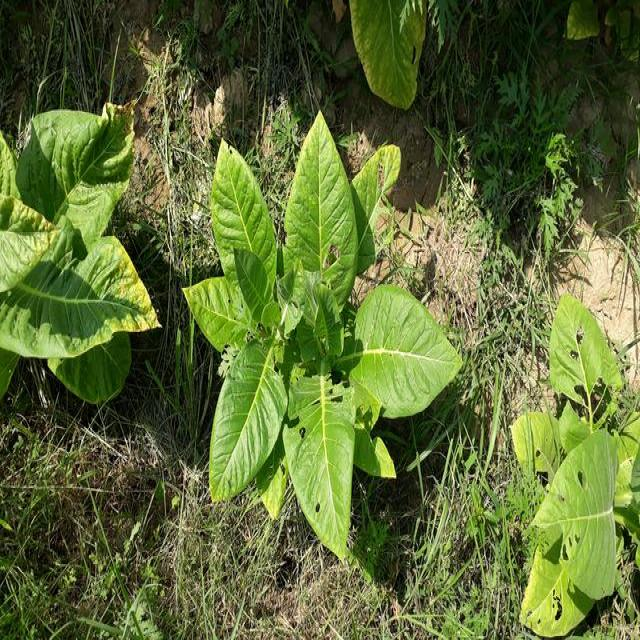crop: (183, 109, 465, 571), (2, 102, 158, 431), (515, 286, 637, 638)
